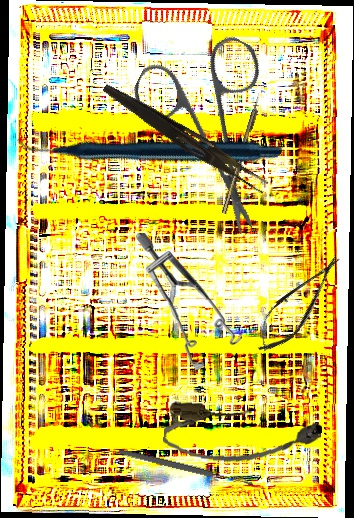Cannula: (161, 400, 324, 470)
Dressing Forceps: (97, 80, 273, 196)
Handpiece: (14, 16, 285, 275)
Hook Surgical: (220, 92, 264, 215)
Iris Scissors: (97, 7, 325, 237)
Micro Scissor: (245, 245, 352, 362)
Speculum: (136, 233, 242, 370)
Surgical Spoon: (118, 447, 254, 489)
